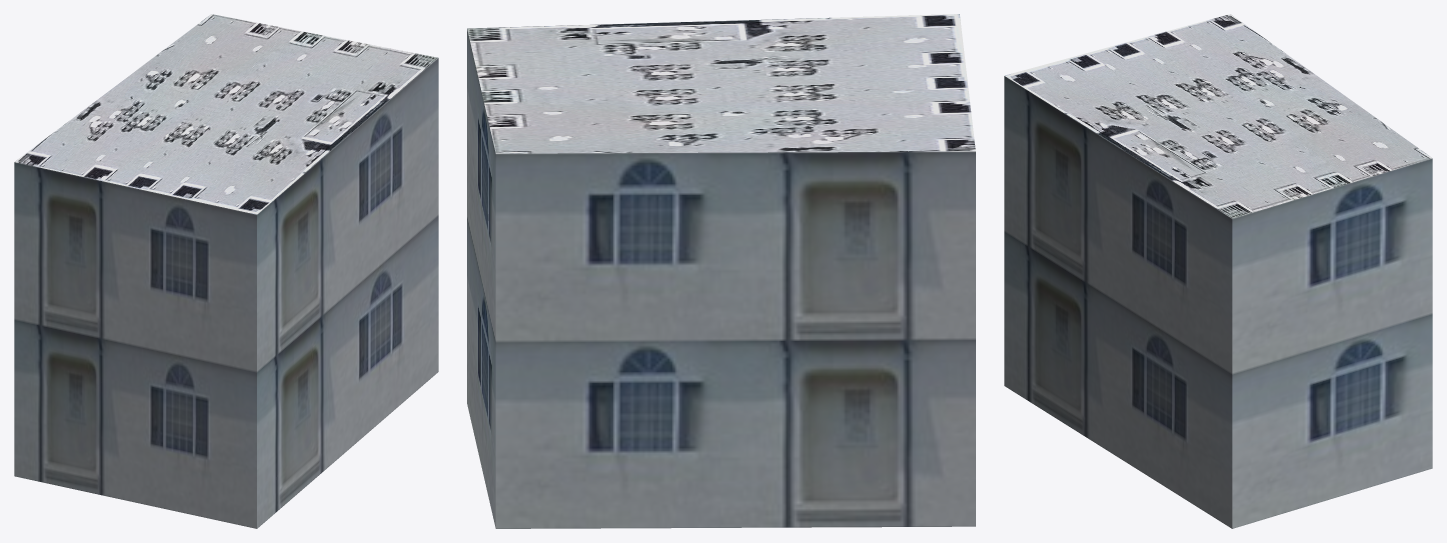
The model's file is ResTex__1476.fbx.
The picture shows the model from 3 angles, left to right: view 1: azimuth 30°, elevation 25°; view 2: azimuth 150°, elevation 25°; view 3: azimuth 270°, elevation 25°; orthographic projection. The views are drawn at different scales.
Parts seen in each view (by area): view 1: CityEngineMaterial_17_m, CityEngineMaterial_m; view 2: CityEngineMaterial_17_m, CityEngineMaterial_m; view 3: CityEngineMaterial_17_m, CityEngineMaterial_m.
Boxes of the visible parts, x1=… form: CityEngineMaterial_17_m: x1=14, y1=58, x2=438, y2=528; CityEngineMaterial_m: x1=15, y1=14, x2=437, y2=214; CityEngineMaterial_17_m: x1=467, y1=29, x2=975, y2=528; CityEngineMaterial_m: x1=467, y1=14, x2=975, y2=153; CityEngineMaterial_17_m: x1=1004, y1=76, x2=1432, y2=528; CityEngineMaterial_m: x1=1004, y1=14, x2=1432, y2=218.
Bounding box in the file's own units: 8.5 × 6 × 7.51.
Materials: 2 (2 with a texture image).
